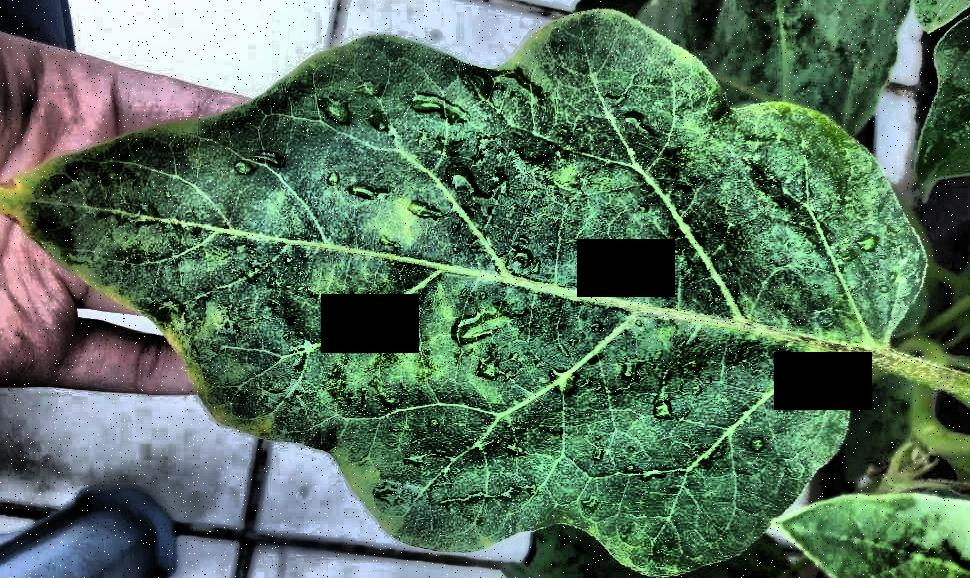Non-critical Stress: (1, 0, 970, 578)
